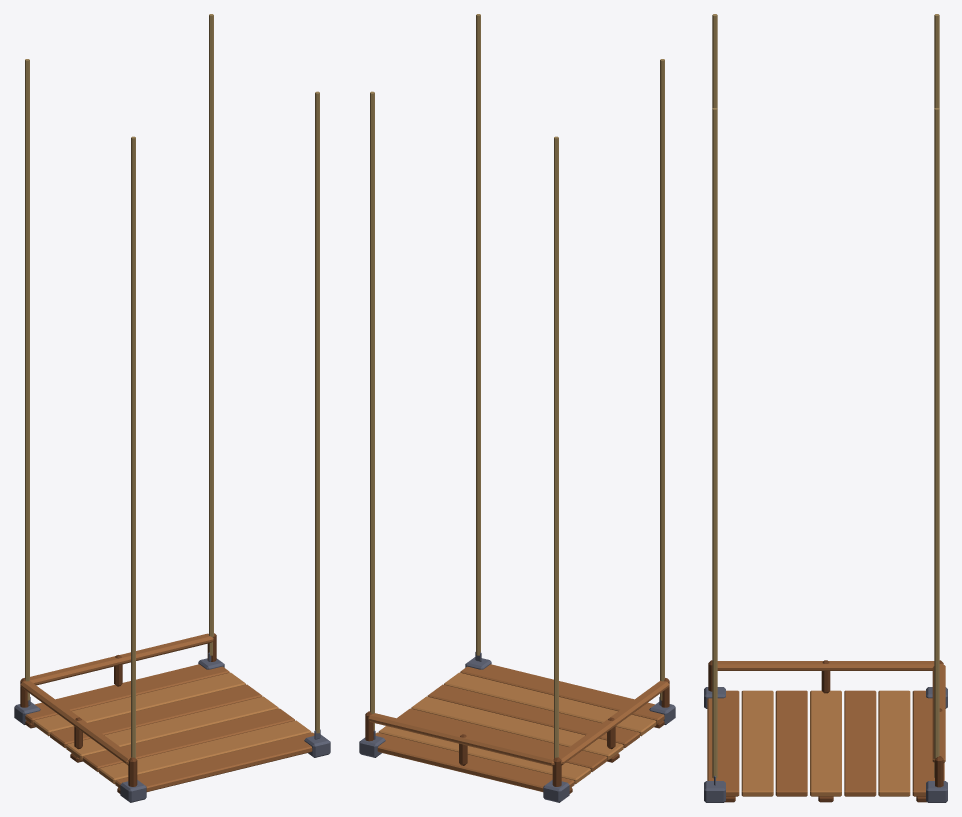
Rendered from montacarichi_piattaforma.glb.
3 renders of one model, left to right at view 1: azimuth 30°, elevation 25°; view 2: azimuth 150°, elevation 25°; view 3: azimuth 270°, elevation 25°, orthographic. The views are drawn at different scales.
Parts seen in each view (by area): view 1: montacarichi_piattaforma2; view 2: montacarichi_piattaforma2; view 3: montacarichi_piattaforma2.
Part boxes in pixels (bbox=[...]): montacarichi_piattaforma2: bbox=[14, 14, 330, 802]; montacarichi_piattaforma2: bbox=[359, 14, 675, 802]; montacarichi_piattaforma2: bbox=[704, 14, 947, 802].
Size of the model in its own units: 2.24 by 7 by 2.24.
